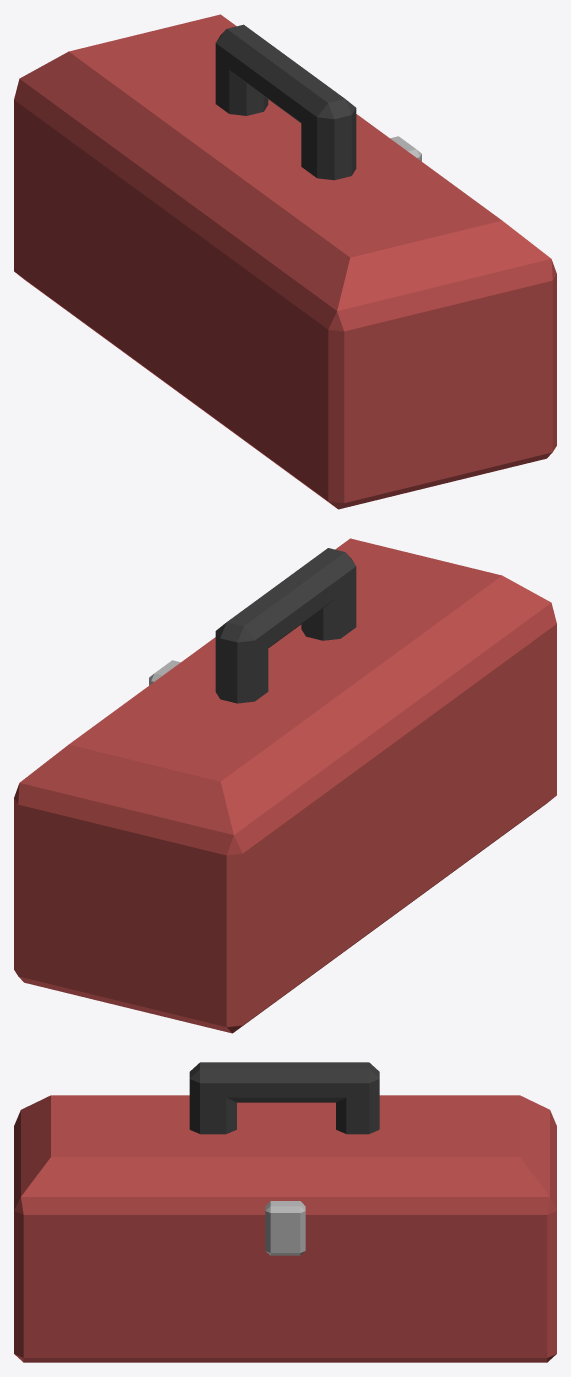
The model's file is Toolbox.glb.
3 views of the same model, one above another, from view 1: azimuth 30°, elevation 25°; view 2: azimuth 150°, elevation 25°; view 3: azimuth 270°, elevation 25° (orthographic). The views are drawn at different scales.
Parts seen in each view (by area): view 1: Toolbox; view 2: Toolbox; view 3: Toolbox.
Part boxes in pixels (x1,y1,x2,y2): Toolbox: (14, 14, 556, 509); Toolbox: (14, 538, 556, 1033); Toolbox: (14, 1062, 556, 1362).
Bounding box in the file's own units: 28.7 × 34.65 × 66.98.
